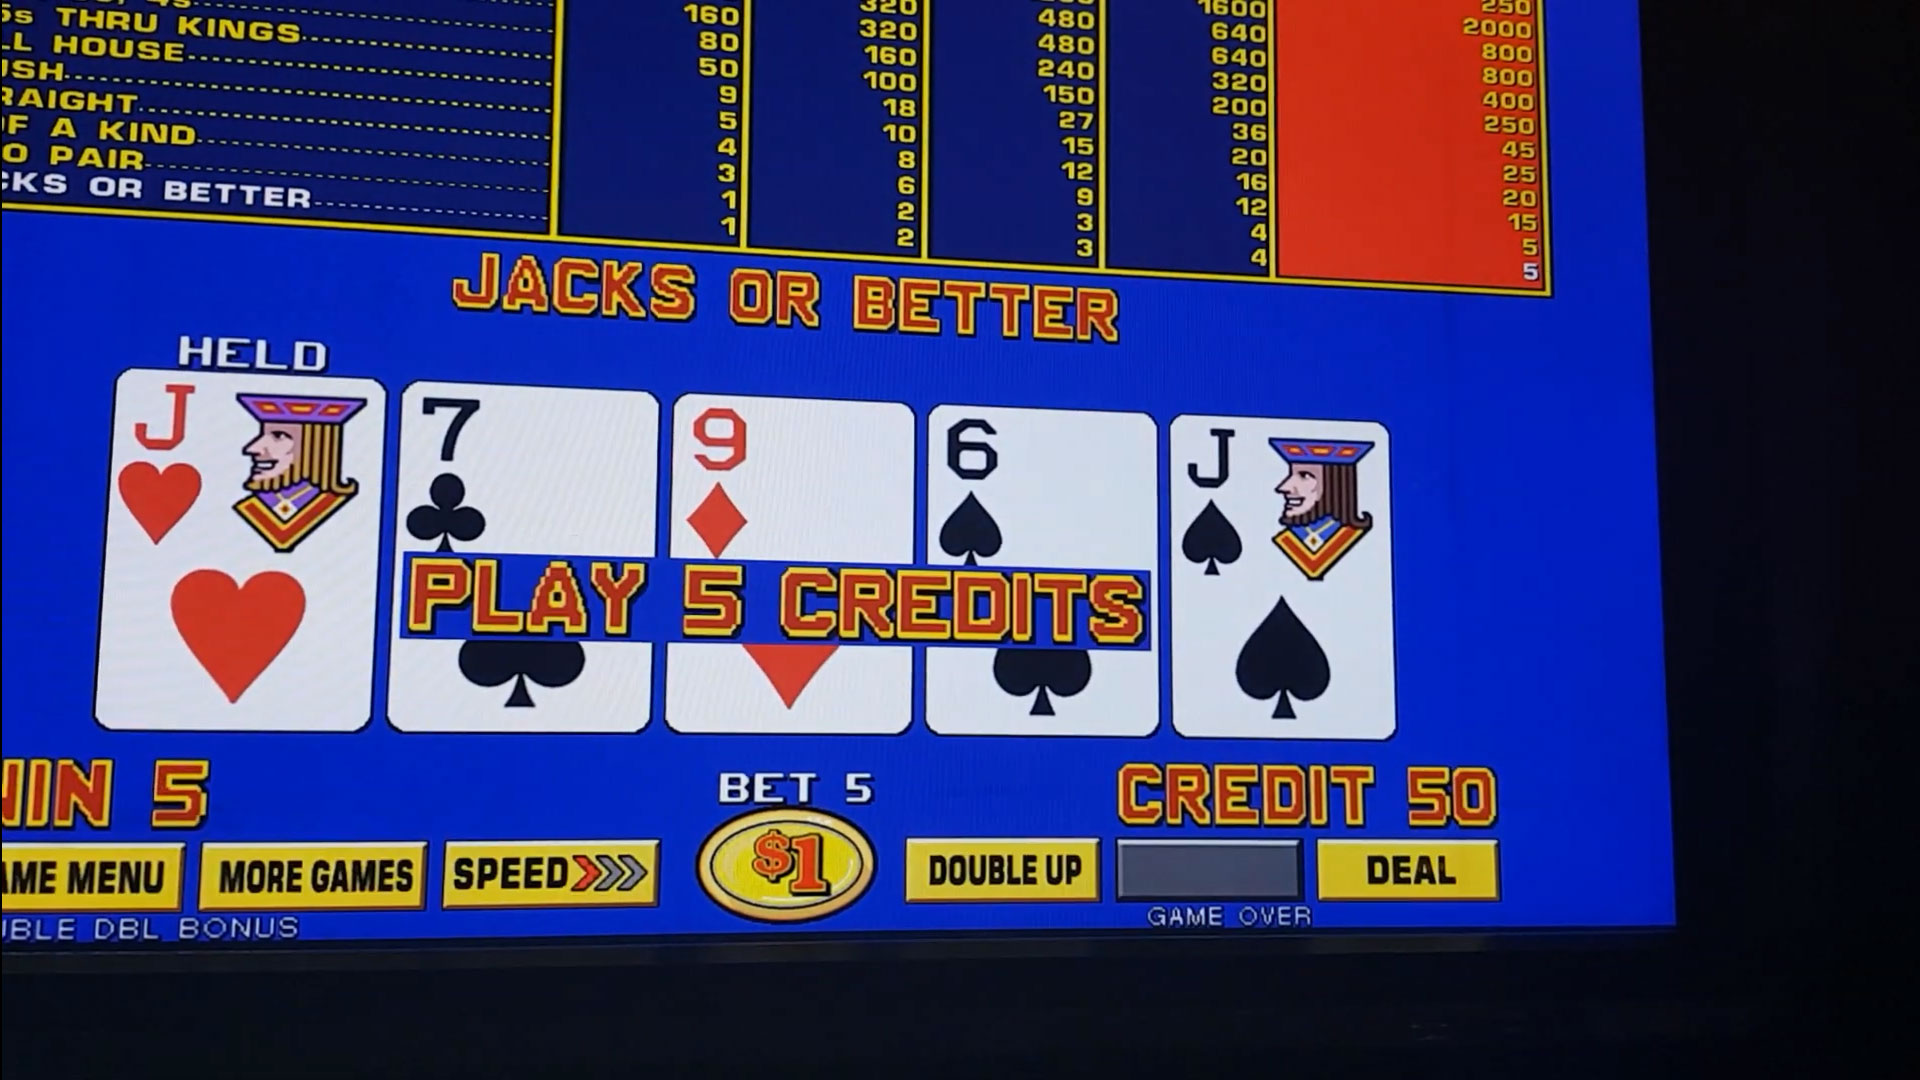C7: (407, 393, 651, 545)
D9: (678, 406, 911, 556)
HJ: (124, 386, 378, 560)
S6: (931, 415, 1153, 567)
SJ: (1172, 419, 1385, 578)
